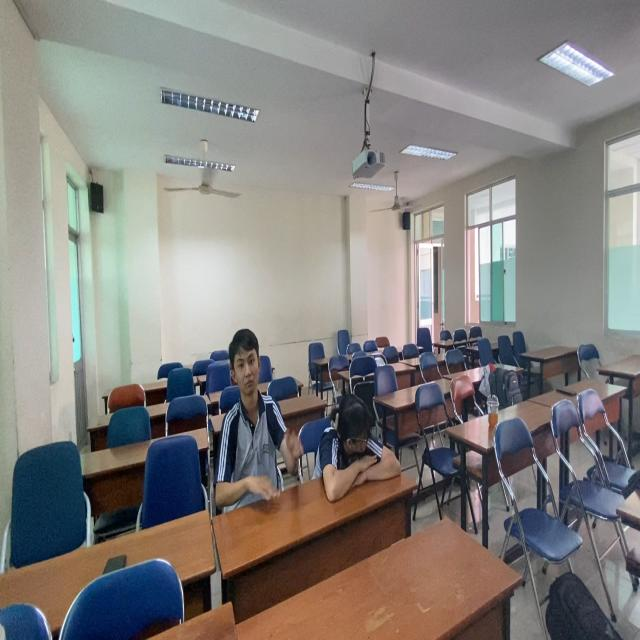sleep: (310, 379, 412, 530)
